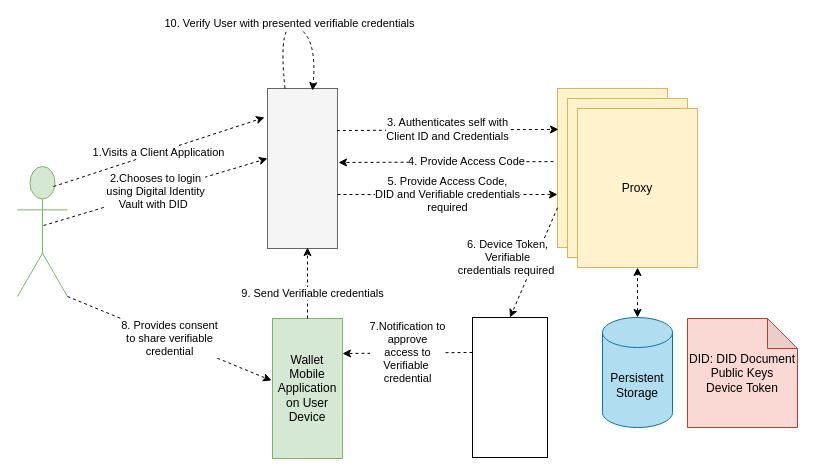
Image size: 815x476. Some labels were removed from this diagram. The box of each missing label's shape, as (x1, y1, x2, y2) in pixels:
Client Application: (266, 88, 338, 248)
Push Notification Server: (472, 316, 548, 458)
User: (16, 166, 68, 296)
